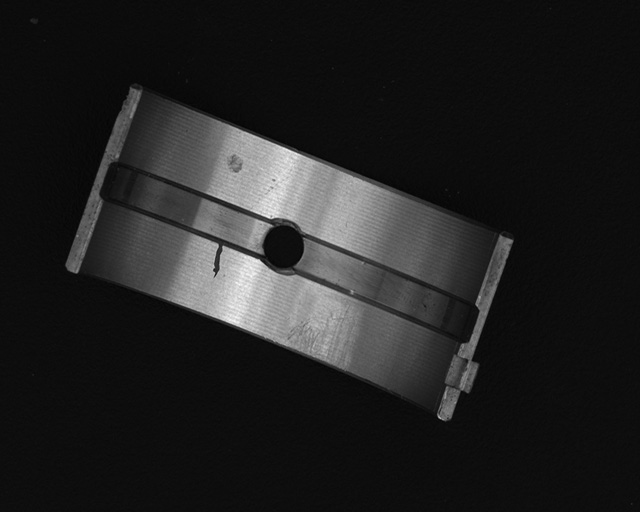bruise: (226, 154, 245, 175)
gap: (296, 238, 473, 336), (102, 165, 269, 248)
hole: (260, 223, 305, 269)
nick: (212, 242, 224, 281)
scratch: (287, 301, 356, 381)
